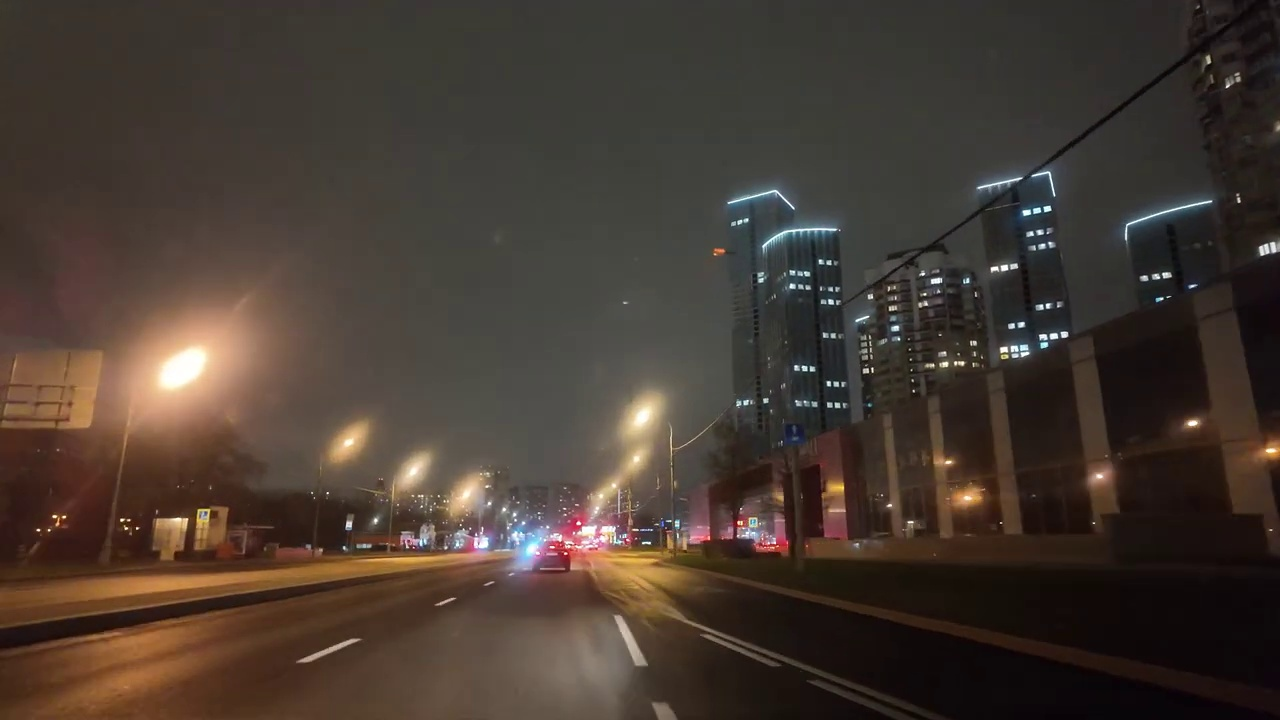acesa: (148, 342, 217, 401), (620, 395, 662, 445), (327, 421, 368, 463), (394, 455, 427, 489)
